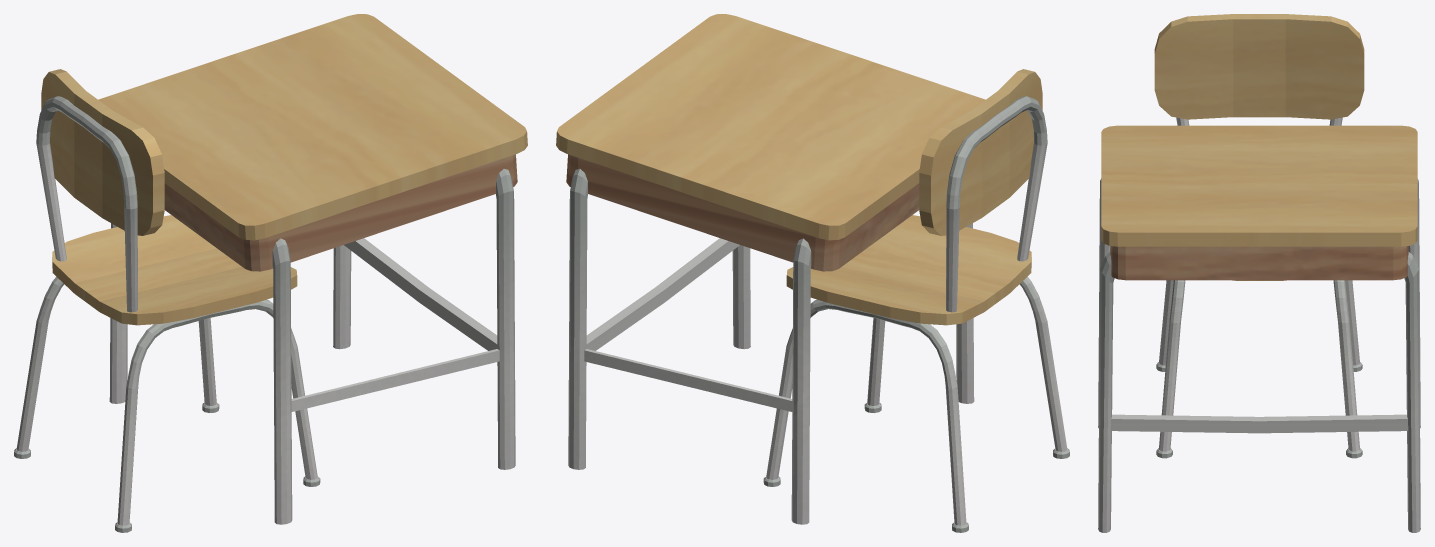
Rendered from Desk&Chair.fbx.
The picture shows the model from 3 angles, left to right: view 1: azimuth 30°, elevation 25°; view 2: azimuth 150°, elevation 25°; view 3: azimuth 270°, elevation 25°; orthographic projection. The views are drawn at different scales.
Visible parts, largest first — view 1: Desk, Chair; view 2: Desk, Chair; view 3: Desk, Chair.
Boxes of the visible parts, x1,y1,x2,y2 form: Desk: (98, 14, 527, 524); Chair: (14, 69, 320, 532); Desk: (556, 14, 985, 524); Chair: (763, 69, 1069, 532); Desk: (1098, 125, 1420, 532); Chair: (1154, 14, 1364, 458).
Size of the model in its own units: 2.86 by 2.73 by 2.21.
1 material, 1 textured.
